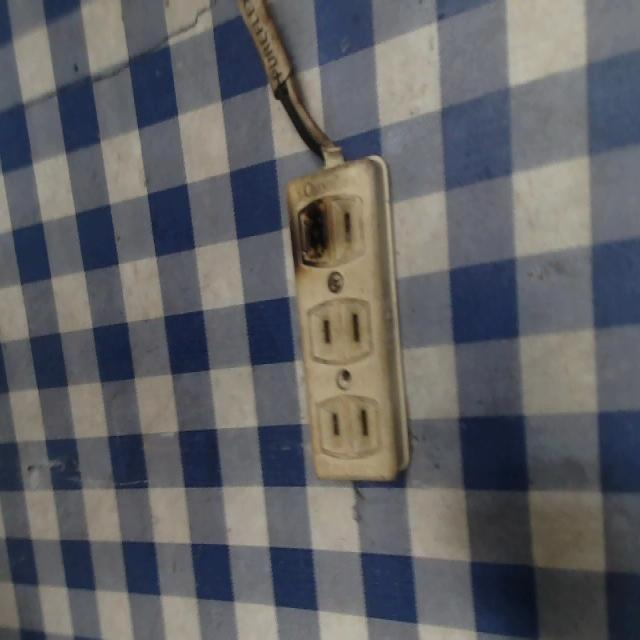-: (293, 196, 335, 267)
